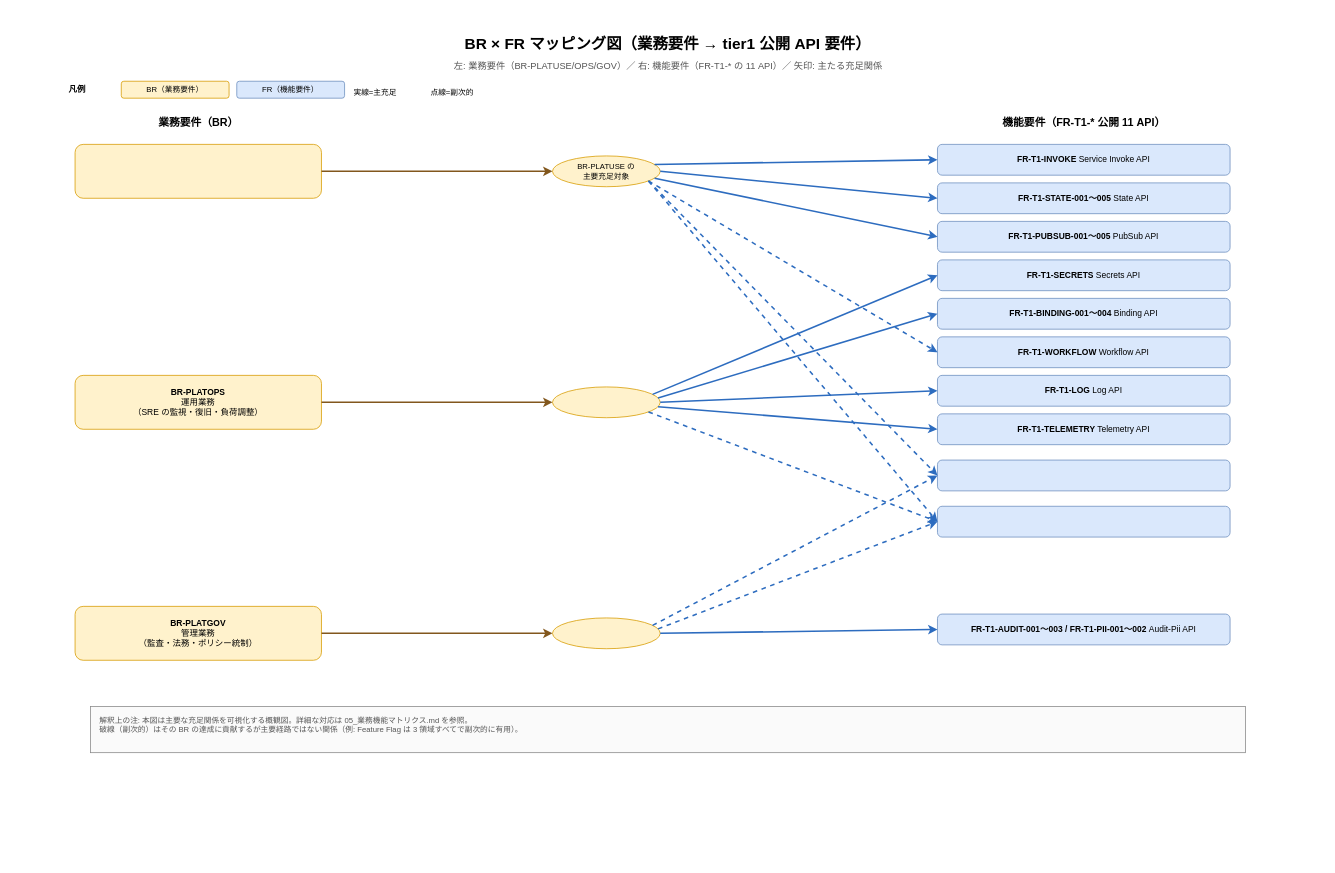
This 1335x873 diagram has some shape labels left out. The centre of each missing label's shape, as x and y in pixels:
BR-PLATGOV の 主要充足対象: the point at 606,633
BR-PLATOPS の 主要充足対象: the point at 606,402
BR-PLATUSE 開発業務 （tier2/tier3 開発者の生産性）: the point at 197,171
FR-T1-DECISION Decision API（ZEN Engine）: the point at 1083,475
FR-T1-FEATURE Feature API（flagd）: the point at 1083,521
